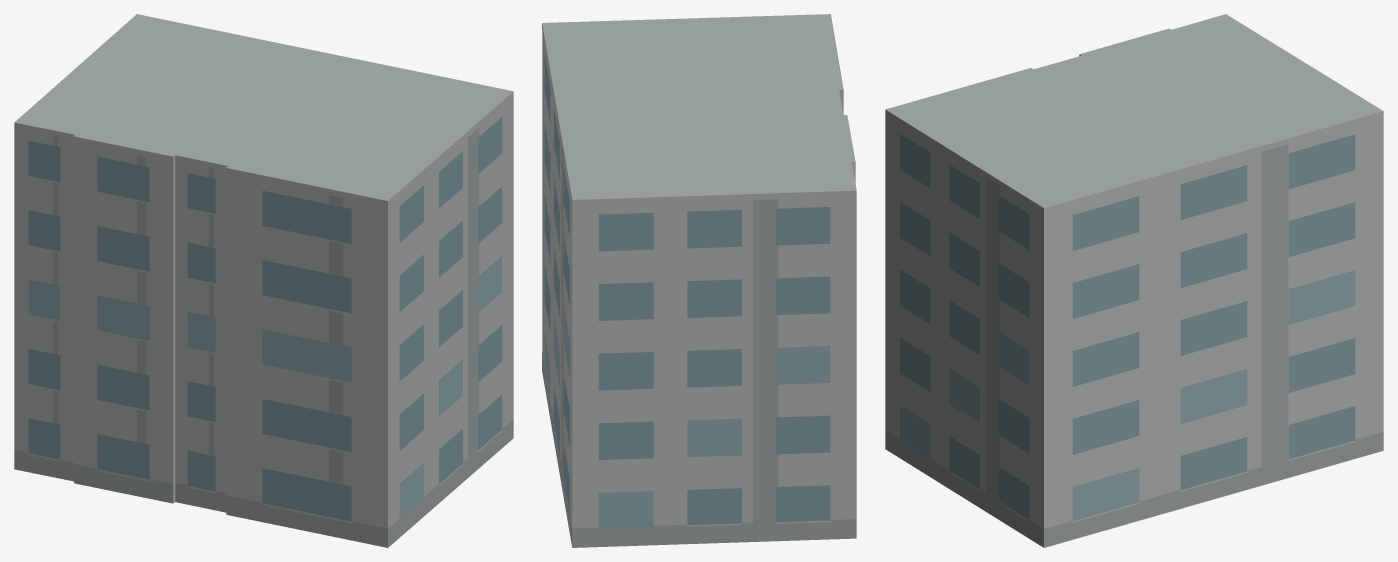
The model's file is survey-upis-32842155.glb.
3 renders of one model, left to right at view 1: azimuth 30°, elevation 25°; view 2: azimuth 150°, elevation 25°; view 3: azimuth 270°, elevation 25°, orthographic. The views are drawn at different scales.
Visible parts, largest first — view 1: survey-upis-32842155.tmp; view 2: survey-upis-32842155.tmp; view 3: survey-upis-32842155.tmp.
Part boxes in pixels (box(x1,y1,x2,y2)): survey-upis-32842155.tmp: box(14, 14, 513, 547); survey-upis-32842155.tmp: box(542, 14, 856, 547); survey-upis-32842155.tmp: box(885, 14, 1383, 547).
Size of the model in its own units: 17.18 by 14 by 18.62.
